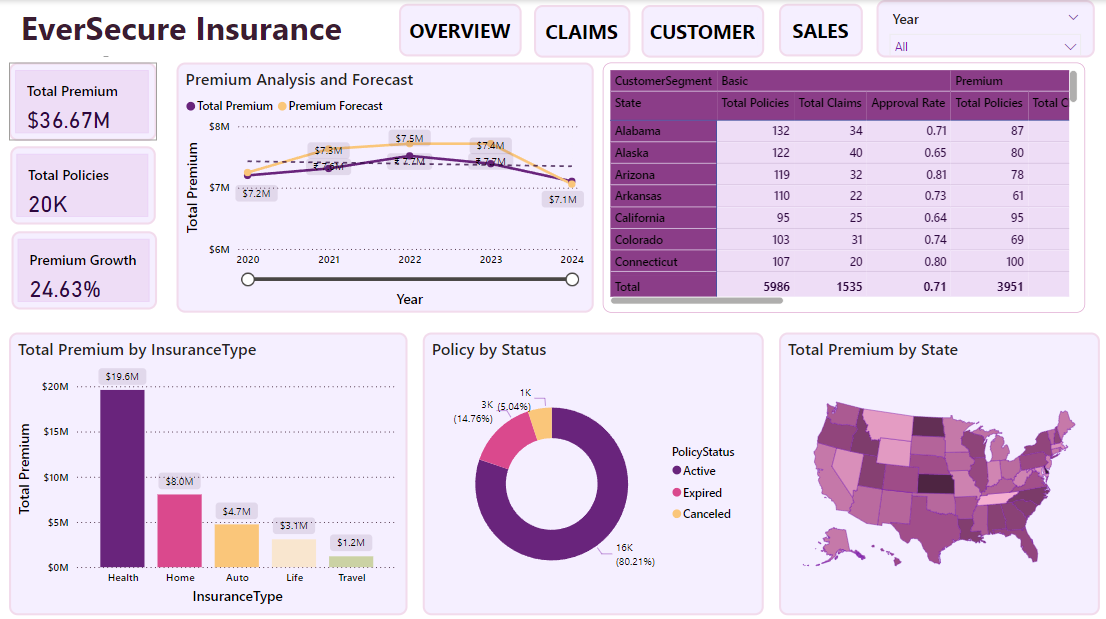

This screenshot's page, from the dashboard's own definition file:
{"tool":"powerbi","page":{"name":"Overview","canvas":[1280,720],"ordinal":0},"visuals":[{"type":"lineChart","title":"Premium Analysis with and Forecast","fields":{"Y":["policies.Total Premium","policies.Premium Forecast"],"Category":["DateDim.Year"]},"box":[204.9,72.1,481.9,288.6],"z":0},{"type":"shapeMap","fields":{"Category":["customers.State"],"Value":["policies.Total Premium"]},"box":[900.3,383.8,370.8,326.1],"z":1000},{"type":"clusteredColumnChart","fields":{"Category":["policies.InsuranceType"],"Y":["policies.Total Premium"]},"box":[11.5,383.8,460.2,326.1],"z":2000},{"type":"cardVisual","fields":{"Data":["policies.Total Premium"]},"box":[11.7,71.7,170,90],"z":3000},{"type":"cardVisual","fields":{"Data":["policies.Total Policies"]},"box":[13.3,169.2,168.3,90],"z":4000},{"type":"slicer","fields":{"Values":["DateDim.Year"]},"box":[1013.3,0,251.7,66.7],"z":5000},{"type":"donutChart","title":"Policy by Status","fields":{"Category":["policies.PolicyStatus"],"Y":["policies.Total Policies"]},"box":[489.1,383.8,393.9,326.1],"z":6000},{"type":"cardVisual","fields":{"Data":["policies.Premium Growth"]},"box":[15,266.7,168.3,90],"z":7000},{"type":"shape","box":[461.7,4.3,141.4,60.6],"z":8000},{"type":"shape","box":[617.5,5.8,111.1,60.6],"z":9000},{"type":"shape","box":[741.6,5.8,141.4,60.6],"z":10000},{"type":"shape","box":[900.3,4.3,96.7,60.6],"z":11000},{"type":"textbox","box":[20,0,429.9,64.9],"z":12000},{"type":"pivotTable","fields":{"Rows":["customers.State"],"Values":["policies.Total Policies","claims.Total Claims","claims.Approval Rate"],"Columns":["customers.CustomerSegment"]},"box":[696.9,72.1,556.9,288.6],"z":13000}]}

Visuals, with their boxes in screenshot pixels (x1, y1, x2, y2), scaled from the page's 1280x720 canvas onto the 1106x619 screenshot:
"Premium Analysis with and Forecast" lineChart: [x1=177, y1=62, x2=593, y2=310]
shapeMap - customers.State x policies.Total Premium: [x1=778, y1=330, x2=1098, y2=610]
clusteredColumnChart - policies.InsuranceType x policies.Total Premium: [x1=10, y1=330, x2=408, y2=610]
cardVisual - policies.Total Premium: [x1=10, y1=62, x2=157, y2=139]
cardVisual - policies.Total Policies: [x1=11, y1=145, x2=157, y2=223]
slicer - DateDim.Year: [x1=876, y1=0, x2=1093, y2=57]
"Policy by Status" donutChart: [x1=423, y1=330, x2=763, y2=610]
cardVisual - policies.Premium Growth: [x1=13, y1=229, x2=158, y2=307]
shape: [x1=399, y1=4, x2=521, y2=56]
shape: [x1=534, y1=5, x2=630, y2=57]
shape: [x1=641, y1=5, x2=763, y2=57]
shape: [x1=778, y1=4, x2=861, y2=56]
textbox: [x1=17, y1=0, x2=389, y2=56]
pivotTable - customers.State x policies.Total Policies: [x1=602, y1=62, x2=1083, y2=310]
